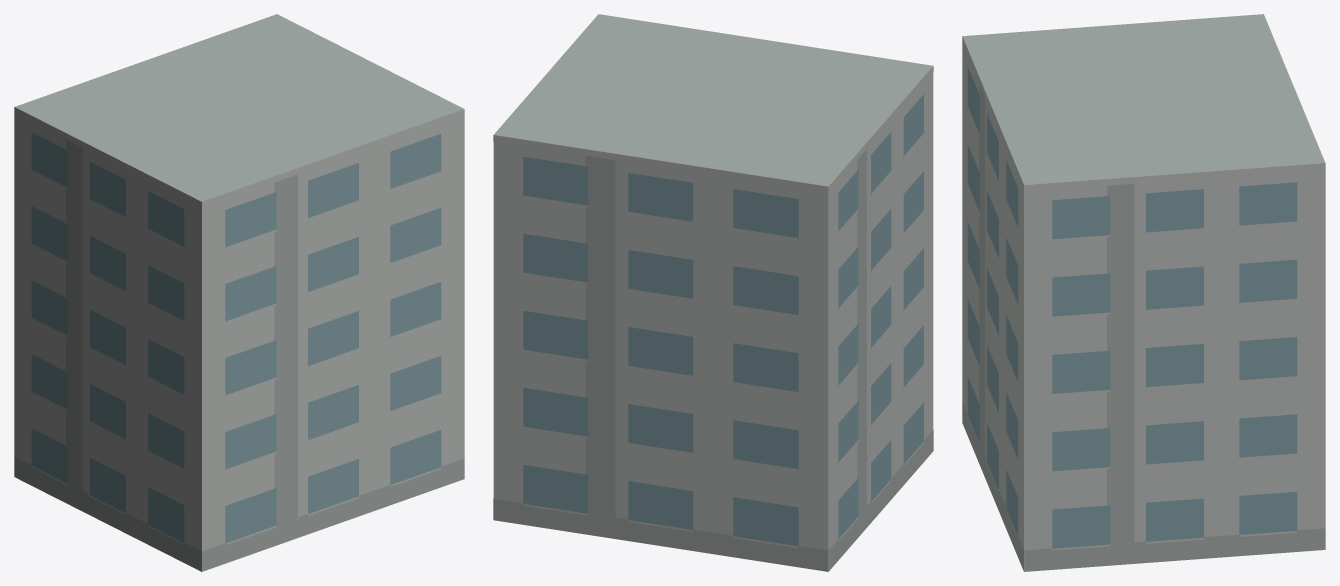
File: survey-upis-32836391.glb
The picture shows the model from 3 angles, left to right: view 1: azimuth 30°, elevation 25°; view 2: azimuth 150°, elevation 25°; view 3: azimuth 270°, elevation 25°; orthographic projection. The views are drawn at different scales.
Visible parts, largest first — view 1: survey-upis-32836391.tmp; view 2: survey-upis-32836391.tmp; view 3: survey-upis-32836391.tmp.
Boxes of the visible parts, x1,y1,x2,y2 form: survey-upis-32836391.tmp: (14, 14, 464, 571); survey-upis-32836391.tmp: (493, 14, 933, 571); survey-upis-32836391.tmp: (962, 14, 1325, 571).
Size of the model in its own units: 13.44 by 14.15 by 12.05.
